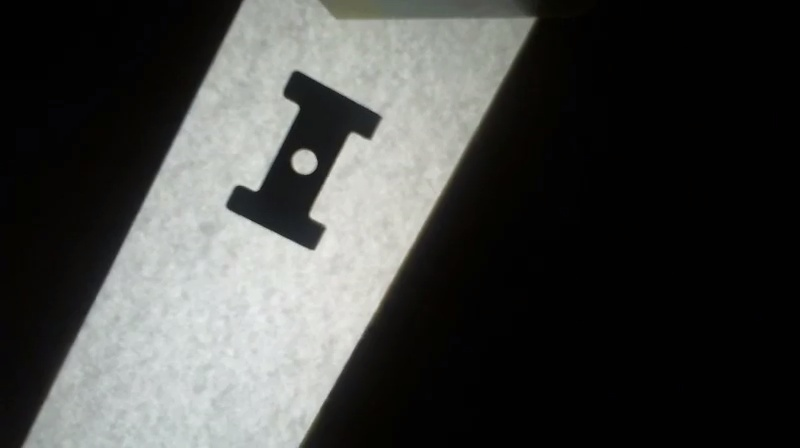O002: (222, 67, 385, 254)
